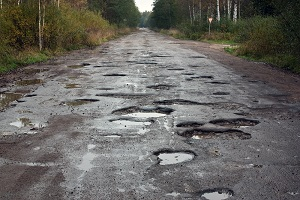pothole: (174, 124, 252, 147), (149, 144, 197, 169), (204, 109, 263, 128), (107, 103, 182, 117), (153, 92, 225, 105), (96, 117, 153, 131), (196, 179, 234, 199), (61, 93, 100, 108), (258, 92, 294, 108), (55, 75, 85, 90), (100, 69, 130, 80), (167, 41, 191, 49), (187, 52, 208, 61), (185, 76, 220, 79), (123, 53, 136, 61)
